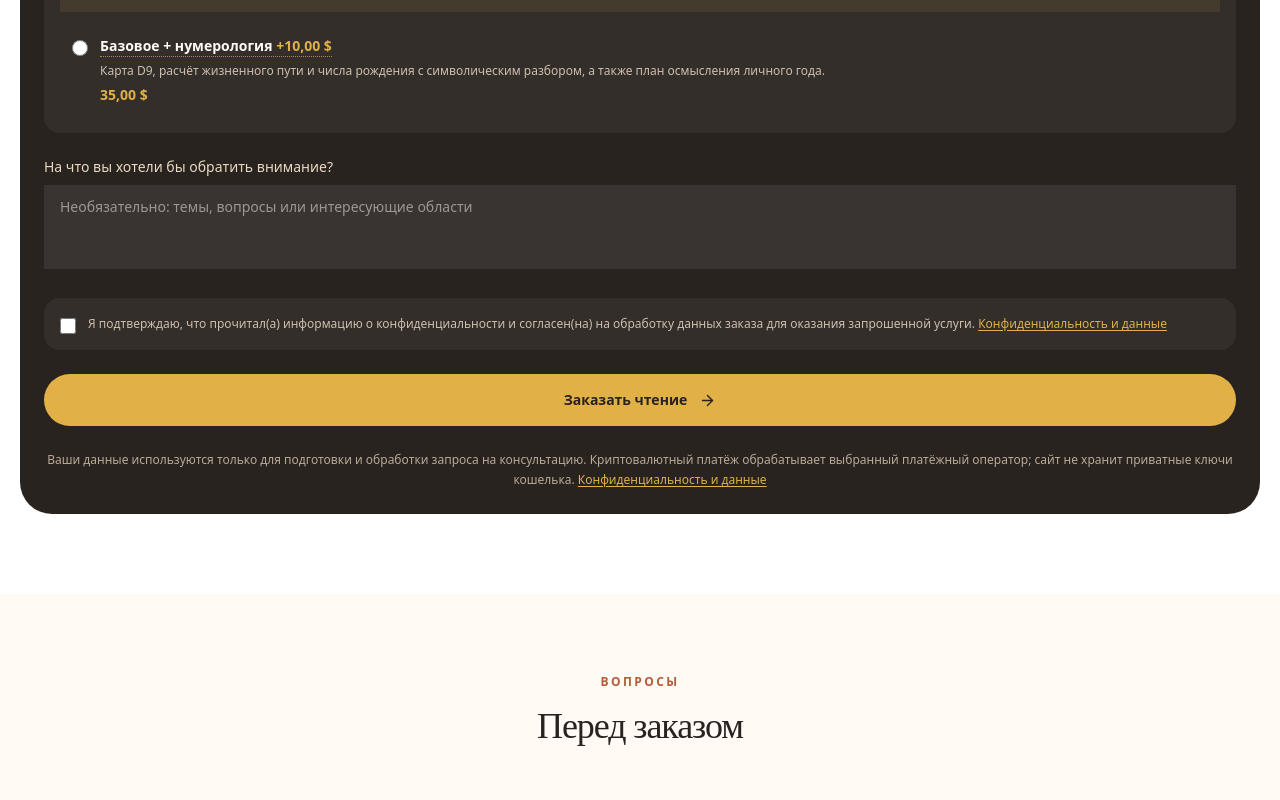
Scenario: Home booking payment UX › shows application-controlled validation in ru
(page scrolled)
Click the button "Заказать чтение". click: [640, 400]
box: [44,374,1236,426]
(page scrolled)
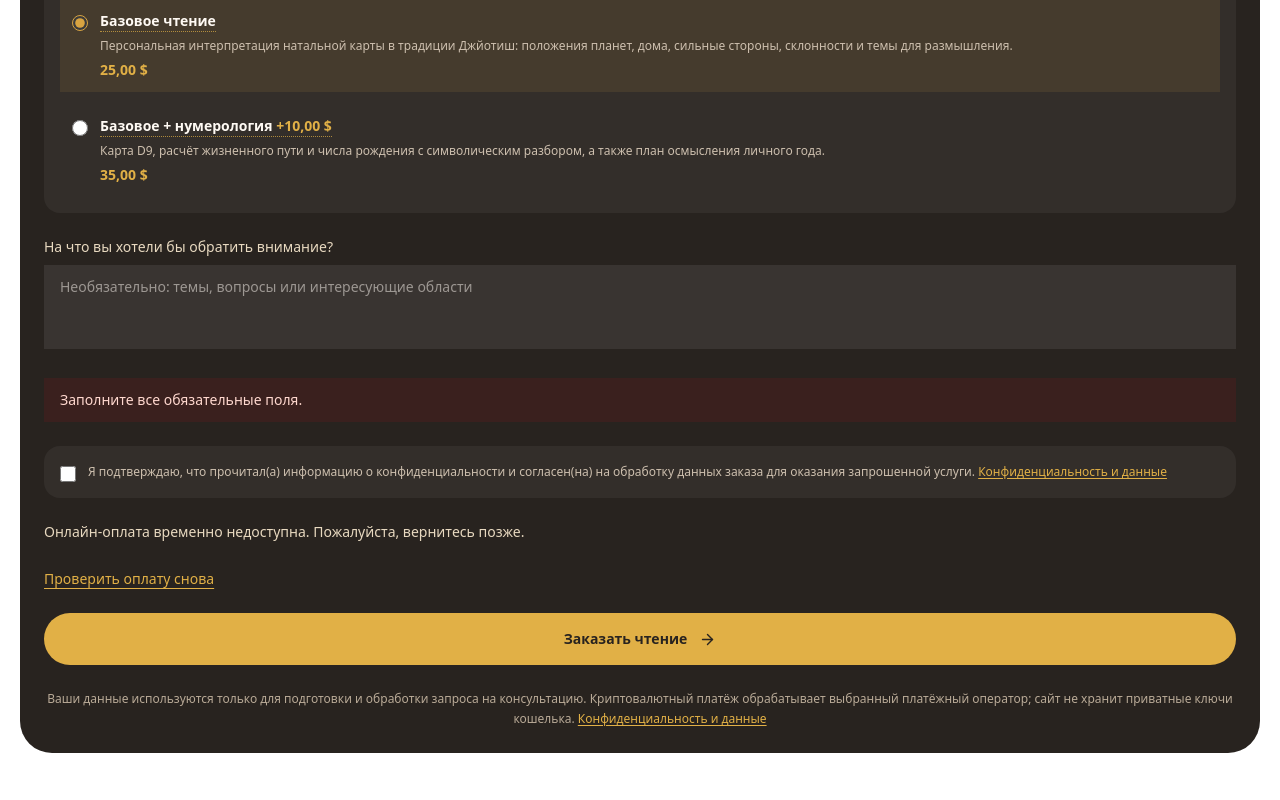
Now the message "Заполните все обязательные поля." is shown, box [44,378,1236,422]
